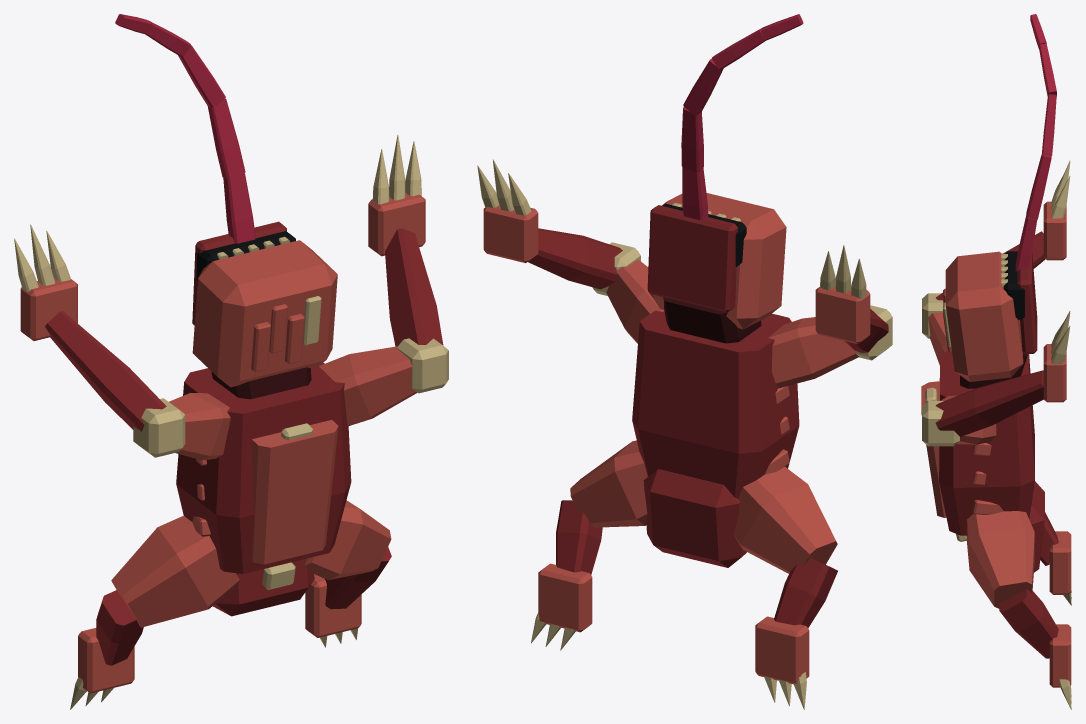
File: licker.obj
3 views of the same model, side by side, from view 1: azimuth 30°, elevation 25°; view 2: azimuth 150°, elevation 25°; view 3: azimuth 270°, elevation 25° (orthographic). The views are drawn at different scales.
Visible parts, largest first — view 1: rib_cage, eyeless_skull, hunched_back, rear_thigh_1, front_forearm_1, front_forearm_-1, front_upper_-1, rear_thigh_-1, front_upper_1, pelvis.001, front_hand_-1, front_hand_1 (+20 smaller); view 2: rib_cage, lower_jaw, pelvis.001, rear_thigh_1, eyeless_skull, rear_thigh_-1, front_upper_1, front_forearm_-1, rear_foot_-1, rear_foot_1, rear_shin_1, front_hand_-1 (+10 smaller); view 3: rib_cage, eyeless_skull, rear_thigh_-1, front_forearm_-1, rear_shin_-1, lower_jaw, rear_foot_1, rear_foot_-1, front_hand_1, front_hand_-1, front_elbow_-1, hunched_back (+16 smaller).
Part boxes in pixels (box(x1,y1,x2,y2)): rib_cage: box(176, 362, 351, 573); eyeless_skull: box(192, 240, 337, 387); hunched_back: box(251, 420, 338, 564); rear_thigh_1: box(111, 515, 240, 627); front_forearm_1: box(45, 311, 166, 431); front_forearm_-1: box(385, 228, 443, 346); front_upper_-1: box(319, 346, 417, 425); rear_thigh_-1: box(304, 500, 391, 580); front_upper_1: box(169, 393, 230, 460); pelvis.001: box(213, 558, 314, 616); front_hand_-1: box(368, 193, 425, 256); front_hand_1: box(20, 278, 77, 340); rib_cage: box(632, 310, 799, 498); lower_jaw: box(647, 205, 737, 312); pelvis.001: box(643, 469, 746, 567); rear_thigh_1: box(733, 466, 837, 573); eyeless_skull: box(648, 193, 786, 329); rear_thigh_-1: box(570, 440, 647, 527); front_upper_1: box(768, 317, 858, 388); front_forearm_-1: box(528, 228, 622, 289); rear_foot_-1: box(538, 563, 592, 632); rear_foot_1: box(755, 616, 809, 684); rear_shin_1: box(774, 558, 837, 627); front_hand_-1: box(483, 205, 538, 263); rib_cage: box(939, 351, 1034, 535); eyeless_skull: box(945, 251, 1023, 381); rear_thigh_-1: box(966, 511, 1034, 608); front_forearm_-1: box(935, 370, 1043, 436); rear_shin_-1: box(999, 589, 1058, 658); lower_jaw: box(1017, 250, 1037, 354); rear_foot_1: box(1049, 531, 1071, 594); rear_foot_-1: box(1049, 624, 1071, 687); front_hand_1: box(1043, 201, 1066, 260); front_hand_-1: box(1043, 344, 1066, 402); front_elbow_-1: box(922, 401, 959, 446); hunched_back: box(921, 381, 946, 517).
Bounding box in the file's own units: 2.85 × 4.8 × 1.11.
